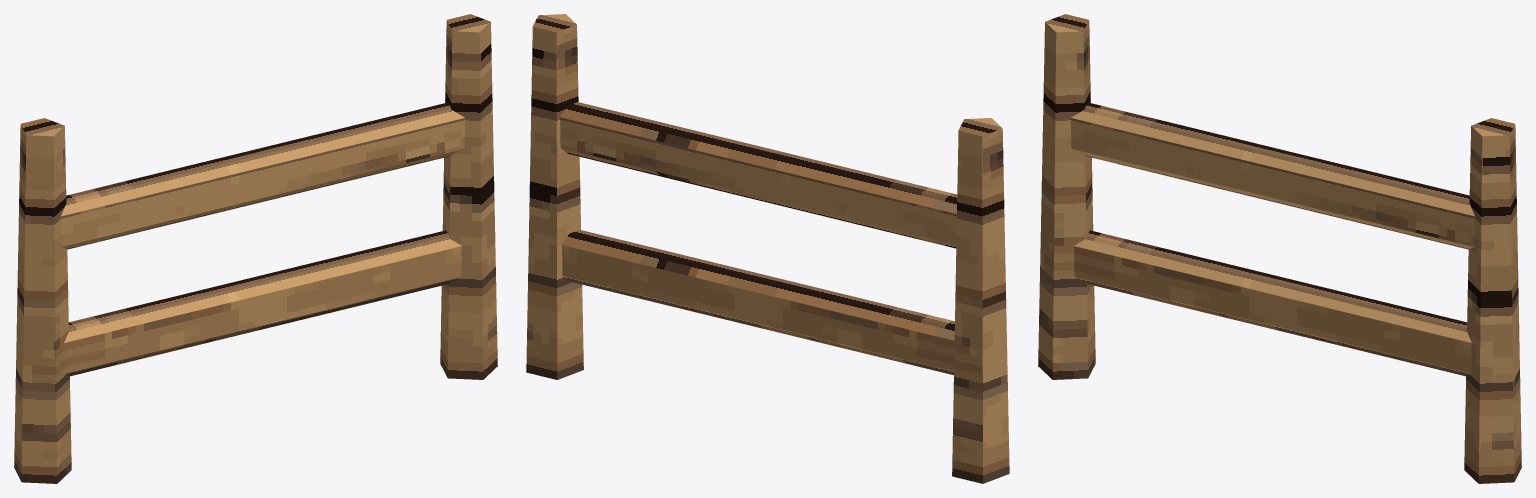
File: enfeite_cerca.glb
3 views of the same model, side by side, from view 1: azimuth 30°, elevation 25°; view 2: azimuth 150°, elevation 25°; view 3: azimuth 330°, elevation 25° (orthographic).
Parts seen in each view (by area): view 1: deserto_enfeite_cerca; view 2: deserto_enfeite_cerca; view 3: deserto_enfeite_cerca.
Part boxes in pixels (x1=…): deserto_enfeite_cerca: x1=14, y1=14, x2=497, y2=483; deserto_enfeite_cerca: x1=526, y1=14, x2=1009, y2=483; deserto_enfeite_cerca: x1=1038, y1=14, x2=1521, y2=483.
Bounding box in the file's own units: 0.9389 × 0.65 × 0.0941.
1 material, 1 textured.
